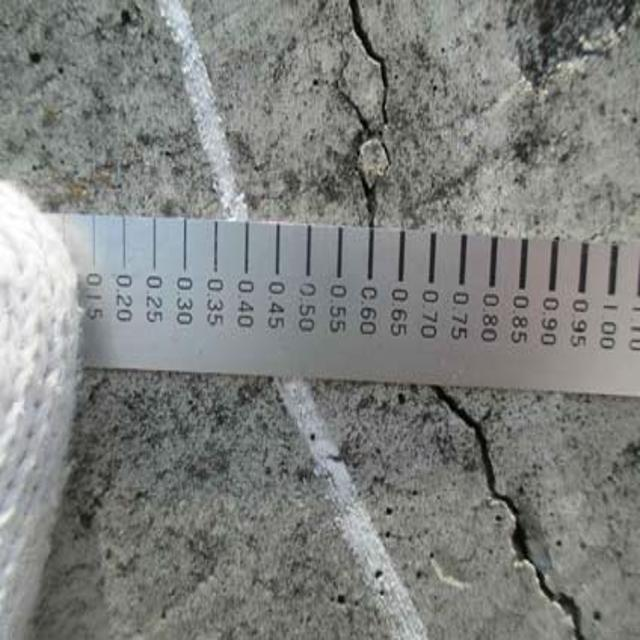crack: (421, 385, 582, 640), (313, 4, 410, 223)
